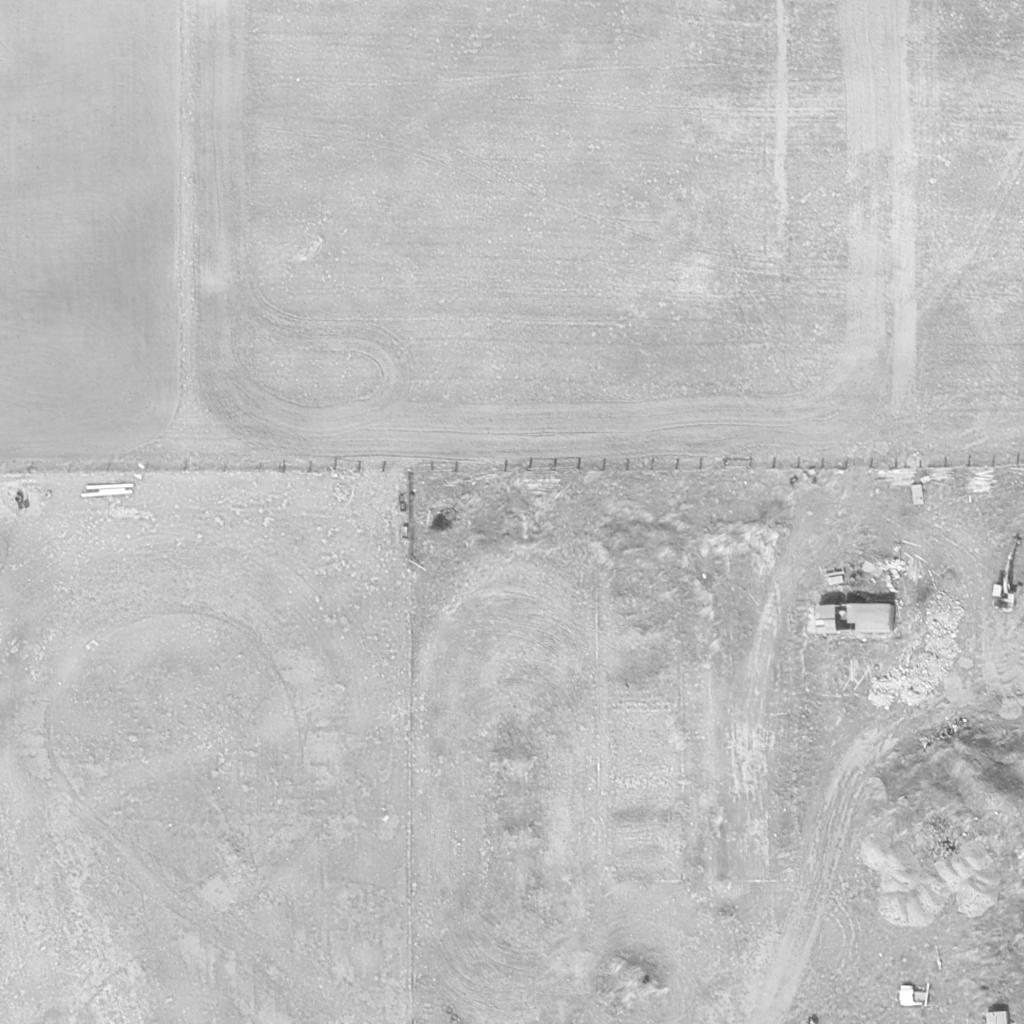vehicle: (990, 536, 1024, 616)
